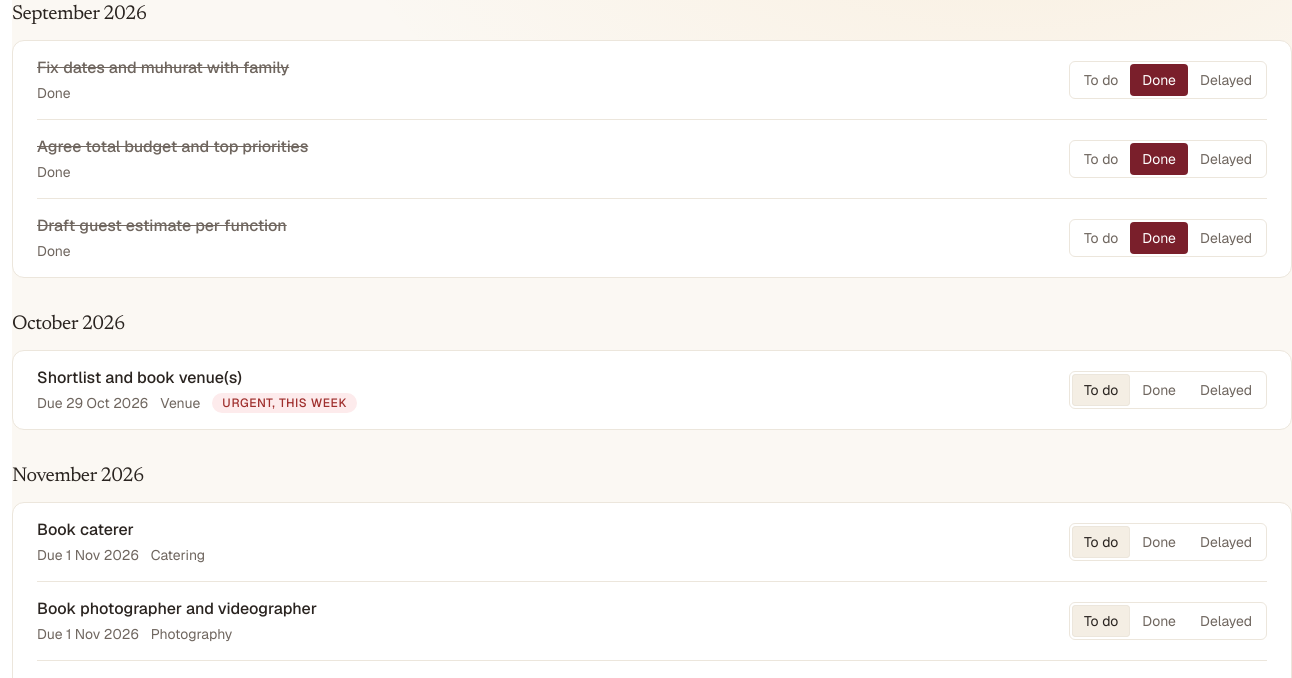
Test case: TimelineTab › marks a task done, replacing its due date with Done
What coordinates should you click on to do the following:
click the button "Done" in the row of "Book caterer"
I would click on:
 (1159, 542)
Its box is [1130, 526, 1188, 558].
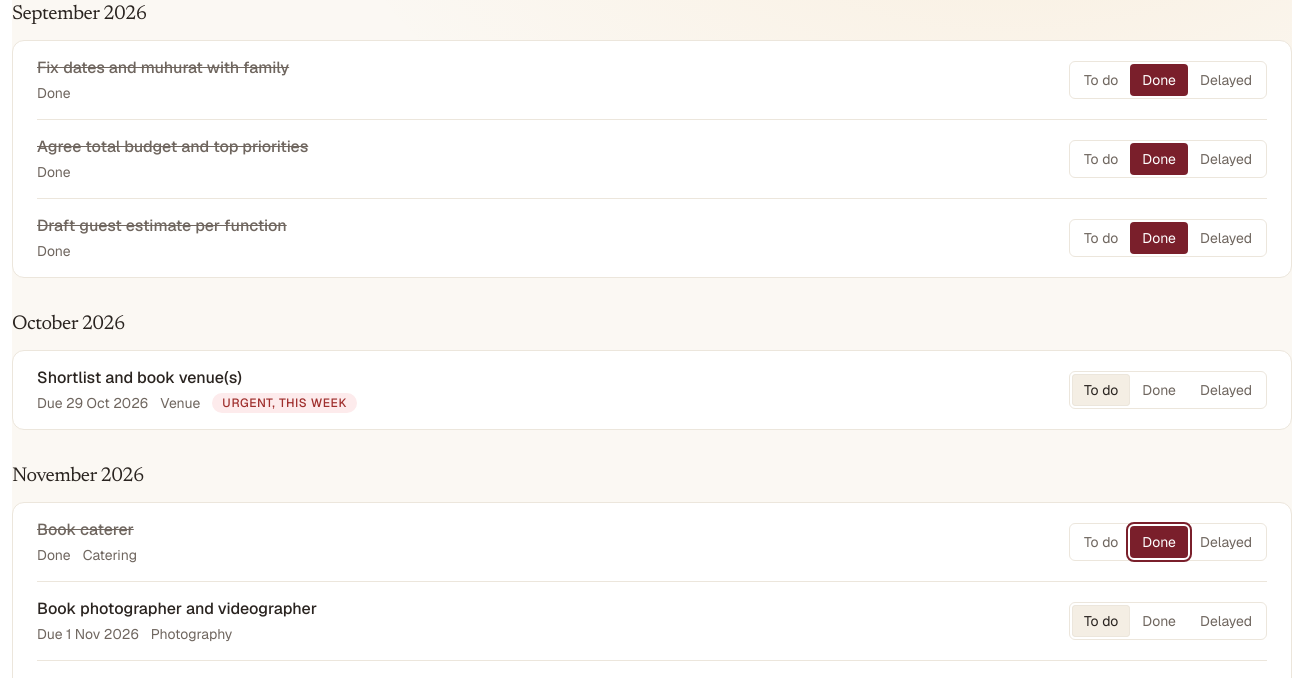
Check: the text "Done" below "Book caterer" is shown, box [37, 546, 71, 564]
